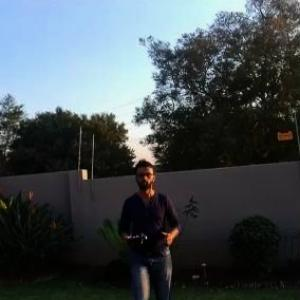follow: (116, 158, 186, 299)
